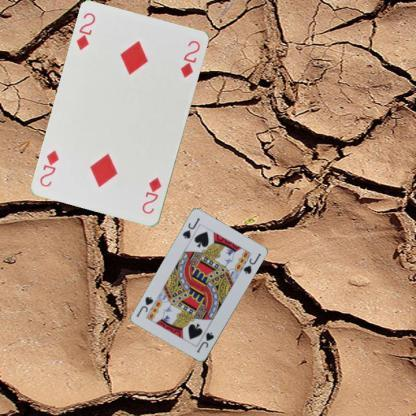2d: (73, 10, 97, 52), (139, 175, 163, 216)
Js: (193, 330, 216, 354), (180, 216, 202, 240)
